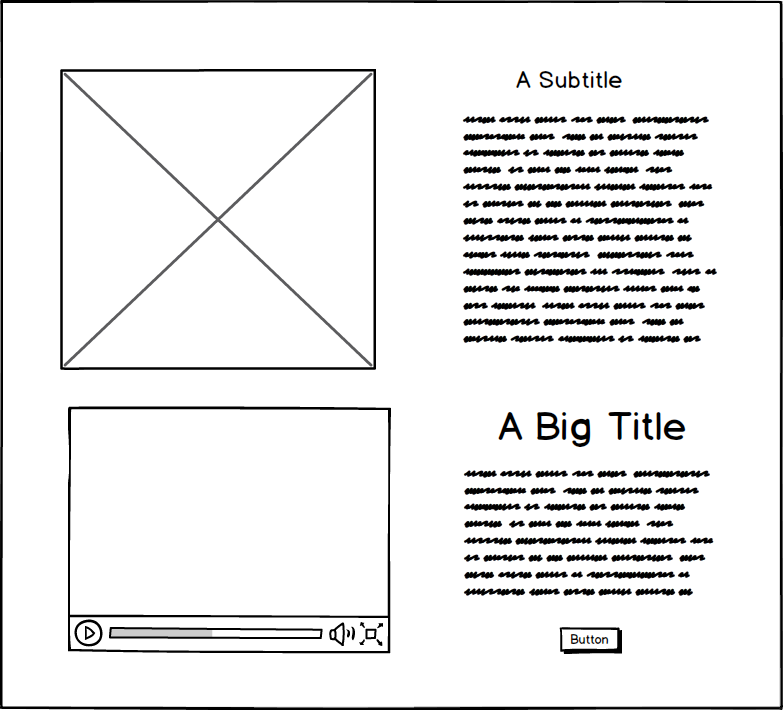button: (556, 623, 630, 657)
h1: (490, 404, 697, 450), (505, 59, 651, 102)
image: (55, 64, 380, 375)
p: (460, 112, 733, 353), (459, 465, 728, 605)
video: (66, 403, 399, 656)
